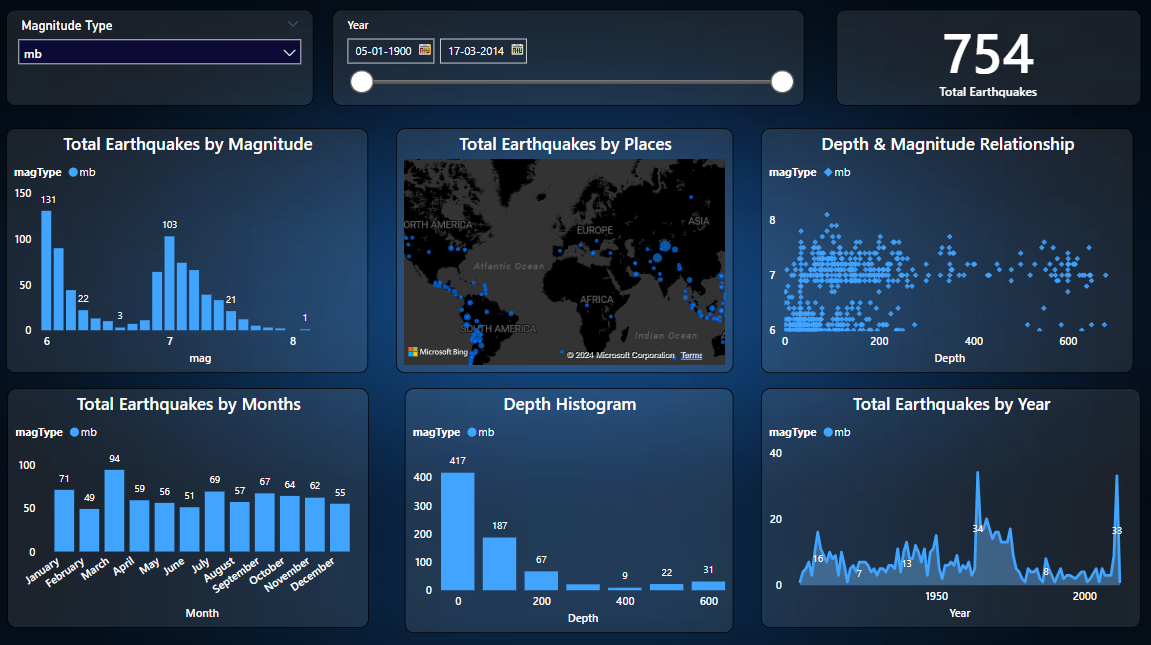

The page's visual inventory and layout, read from the dashboard file:
{"tool":"powerbi","page":{"name":"Page 1","canvas":[1280,720],"ordinal":0},"visuals":[{"type":"slicer","fields":{"Values":["query.magType"]},"box":[16.5,19.2,337.6,105.7],"z":0},{"type":"slicer","fields":{"Values":["query.Date"]},"box":[374.6,19.2,518.7,105.7],"z":1000},{"type":"card","fields":{"Values":["CountNonNull(query.id)"]},"box":[927.6,19.2,334.8,105.7],"z":2000},{"type":"columnChart","title":"Total Earthquakes by Months","fields":{"Category":["query.Date.Variation.Date Hierarchy.Month"],"Y":["CountNonNull(query.id)"],"Series":["query.magType"]},"box":[17.8,435,396.6,263.5],"z":3000},{"type":"clusteredColumnChart","title":"Total Earthquakes by Magnitude","fields":{"Series":["query.magType"],"Category":["query.mag"],"Y":["CountNonNull(query.id)"]},"box":[16.5,149.6,397.9,269],"z":4000},{"type":"stackedAreaChart","title":"Total Earthquakes by Year","fields":{"Category":["query.Date.Variation.Date Hierarchy.Year"],"Y":["CountNonNull(query.id)"],"Series":["query.magType"]},"box":[845.3,435,417.2,263.5],"z":5000},{"type":"clusteredColumnChart","title":"Depth Histogram","fields":{"Series":["query.magType"],"Y":["CountNonNull(query.id)"],"Category":["query.depth (bins)"]},"box":[454.2,435,360.9,269],"z":6000},{"type":"scatterChart","title":"Depth & Magnitude Relationship","fields":{"Series":["query.magType"],"X":["query.depth"],"Y":["query.mag"]},"box":[845.3,149.6,408.9,269],"z":7000},{"type":"map","title":"Total Earthquakes by Places","fields":{"Category":["query.place"],"Size":["CountNonNull(query.id)"]},"box":[444.6,149.6,370.5,269],"z":8000}]}

Visuals, with their boxes in screenshot pixels (x1, y1, x2, y2), scaled from the page's 1280x720 canvas onto the 1151x645 screenshot:
slicer - query.magType: <bbox>15, 17, 318, 112</bbox>
slicer - query.Date: <bbox>337, 17, 803, 112</bbox>
card - CountNonNull(query.id): <bbox>834, 17, 1135, 112</bbox>
"Total Earthquakes by Months" columnChart: <bbox>16, 390, 373, 626</bbox>
"Total Earthquakes by Magnitude" clusteredColumnChart: <bbox>15, 134, 373, 375</bbox>
"Total Earthquakes by Year" stackedAreaChart: <bbox>760, 390, 1135, 626</bbox>
"Depth Histogram" clusteredColumnChart: <bbox>408, 390, 733, 631</bbox>
"Depth & Magnitude Relationship" scatterChart: <bbox>760, 134, 1128, 375</bbox>
"Total Earthquakes by Places" map: <bbox>400, 134, 733, 375</bbox>
